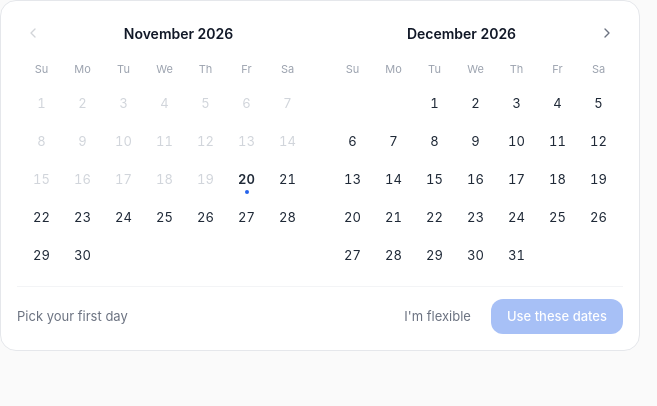
Test: DateRangeCalendar › pages through months, not before this one
Expected: the button named "Previous month" is disabled, [17,17,49,49]
Expected: the text "November 2026" is shown, [124,24,233,42]
Click the button named "Next month" at (607, 33), box [591,17,623,49]
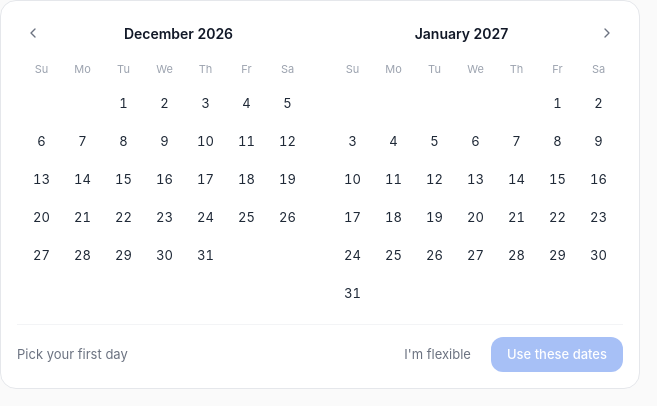
Expected: the text "January 2027" is shown, [415,24,508,42]
Expected: the text "November 2026" is gone
